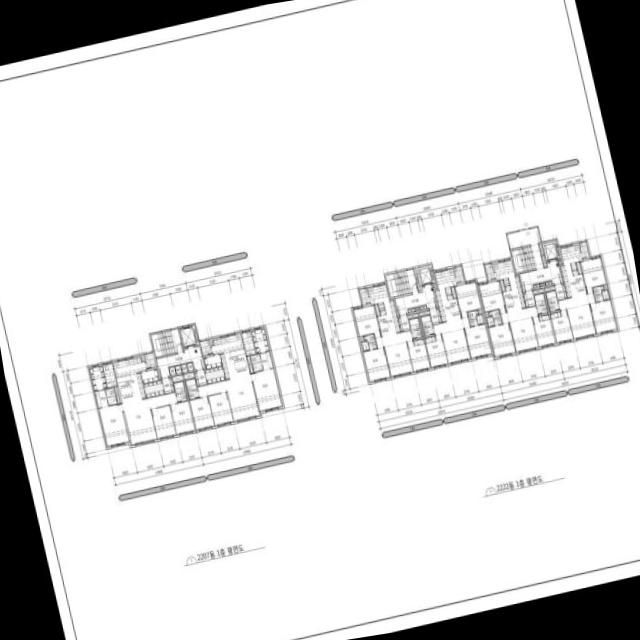background: (0, 0, 640, 640)
space_bedroom: (98, 403, 129, 447), (251, 368, 282, 411), (580, 256, 607, 293), (362, 347, 390, 382), (455, 280, 481, 317), (464, 324, 492, 358), (590, 299, 617, 334), (478, 280, 506, 313), (488, 323, 515, 357), (352, 305, 380, 337), (208, 392, 233, 426), (170, 401, 195, 435), (151, 405, 176, 439), (189, 396, 214, 430), (407, 338, 430, 372), (532, 314, 555, 347), (550, 310, 573, 343), (425, 334, 447, 367)
space_dressroom: (88, 364, 107, 391), (251, 327, 269, 353)
space_elevator: (179, 325, 198, 348), (542, 240, 560, 261), (417, 265, 435, 285)
space_elevator_hall: (507, 227, 562, 290), (395, 269, 436, 315), (156, 346, 204, 377)
space_front: (204, 366, 225, 383), (143, 380, 164, 397), (194, 369, 207, 385), (161, 377, 174, 393), (554, 283, 567, 299), (523, 290, 535, 307), (429, 307, 441, 324), (398, 315, 410, 331)
space_kitchen: (210, 332, 250, 379), (367, 283, 400, 337), (492, 258, 525, 312), (112, 355, 147, 404), (559, 243, 586, 298), (434, 267, 461, 322), (140, 368, 159, 383), (204, 354, 222, 368)
space_living_room: (122, 392, 177, 445), (197, 375, 260, 421), (375, 330, 413, 377), (433, 317, 470, 363), (558, 293, 595, 339), (501, 306, 538, 352)
space_other: (241, 330, 256, 355), (102, 362, 117, 387), (539, 244, 546, 266), (414, 268, 420, 290), (114, 386, 120, 403), (247, 356, 253, 372), (172, 375, 183, 382), (183, 372, 194, 379), (407, 312, 418, 318), (169, 366, 176, 375), (533, 288, 543, 294), (544, 285, 554, 291), (175, 365, 182, 373), (576, 262, 581, 273), (374, 304, 379, 315), (500, 280, 505, 291), (451, 287, 456, 298), (187, 362, 193, 371), (419, 310, 429, 315), (181, 364, 187, 372), (478, 308, 483, 313), (209, 339, 213, 345), (408, 308, 414, 312), (539, 282, 545, 286), (533, 284, 539, 288), (420, 305, 426, 309), (414, 307, 420, 311), (545, 281, 551, 285), (604, 284, 608, 289), (359, 336, 363, 341), (484, 312, 488, 316), (432, 284, 436, 287), (558, 260, 561, 263)
space_outdoor_room: (484, 263, 495, 281), (144, 352, 156, 368), (359, 287, 369, 305), (199, 340, 211, 355), (579, 241, 589, 259), (454, 266, 464, 283)
space_staircase: (150, 328, 182, 357), (386, 270, 411, 297), (511, 246, 536, 272)
space_toilet: (185, 378, 199, 399), (420, 315, 434, 336), (409, 317, 422, 338), (546, 290, 559, 311), (174, 381, 187, 402), (534, 293, 547, 314), (259, 351, 273, 369), (95, 389, 108, 407), (489, 309, 502, 325), (363, 334, 376, 349), (467, 310, 478, 326), (593, 285, 603, 301), (105, 387, 115, 397), (107, 395, 117, 405), (250, 354, 261, 363), (252, 362, 262, 371), (361, 341, 369, 351), (601, 290, 609, 300), (487, 316, 494, 326), (476, 314, 483, 324)
